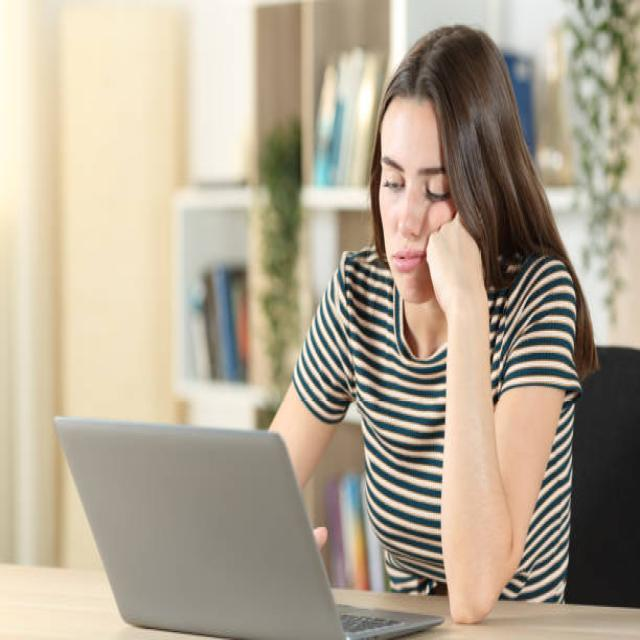Distracted: (380, 95, 456, 302)
